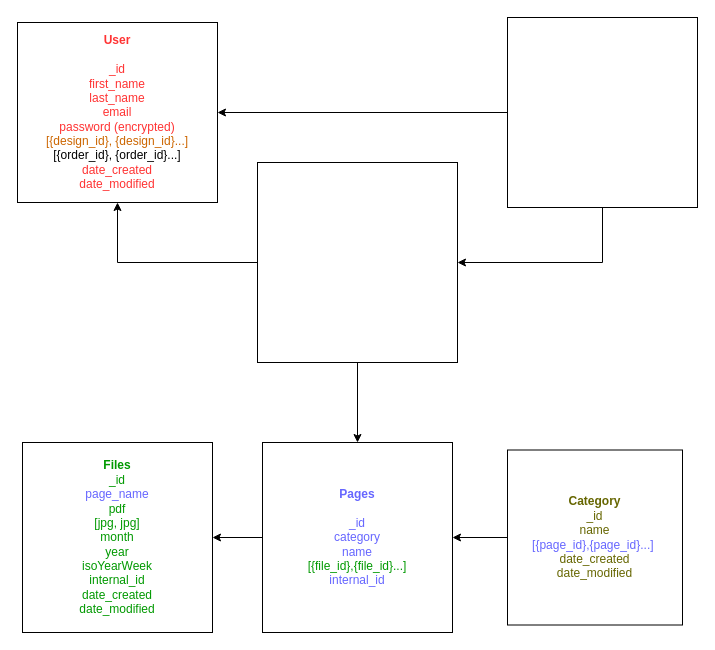
This 715x650 diagram has some shape labels left out. Each missing label, with the centre of its shape:
Designs _id user_email [{page_id},{page_id},{...}] date_created date_modified: [357,262]
Orders _id user_email [{design_id},{design_id},{...}] date_created date_modified: [602,112]
